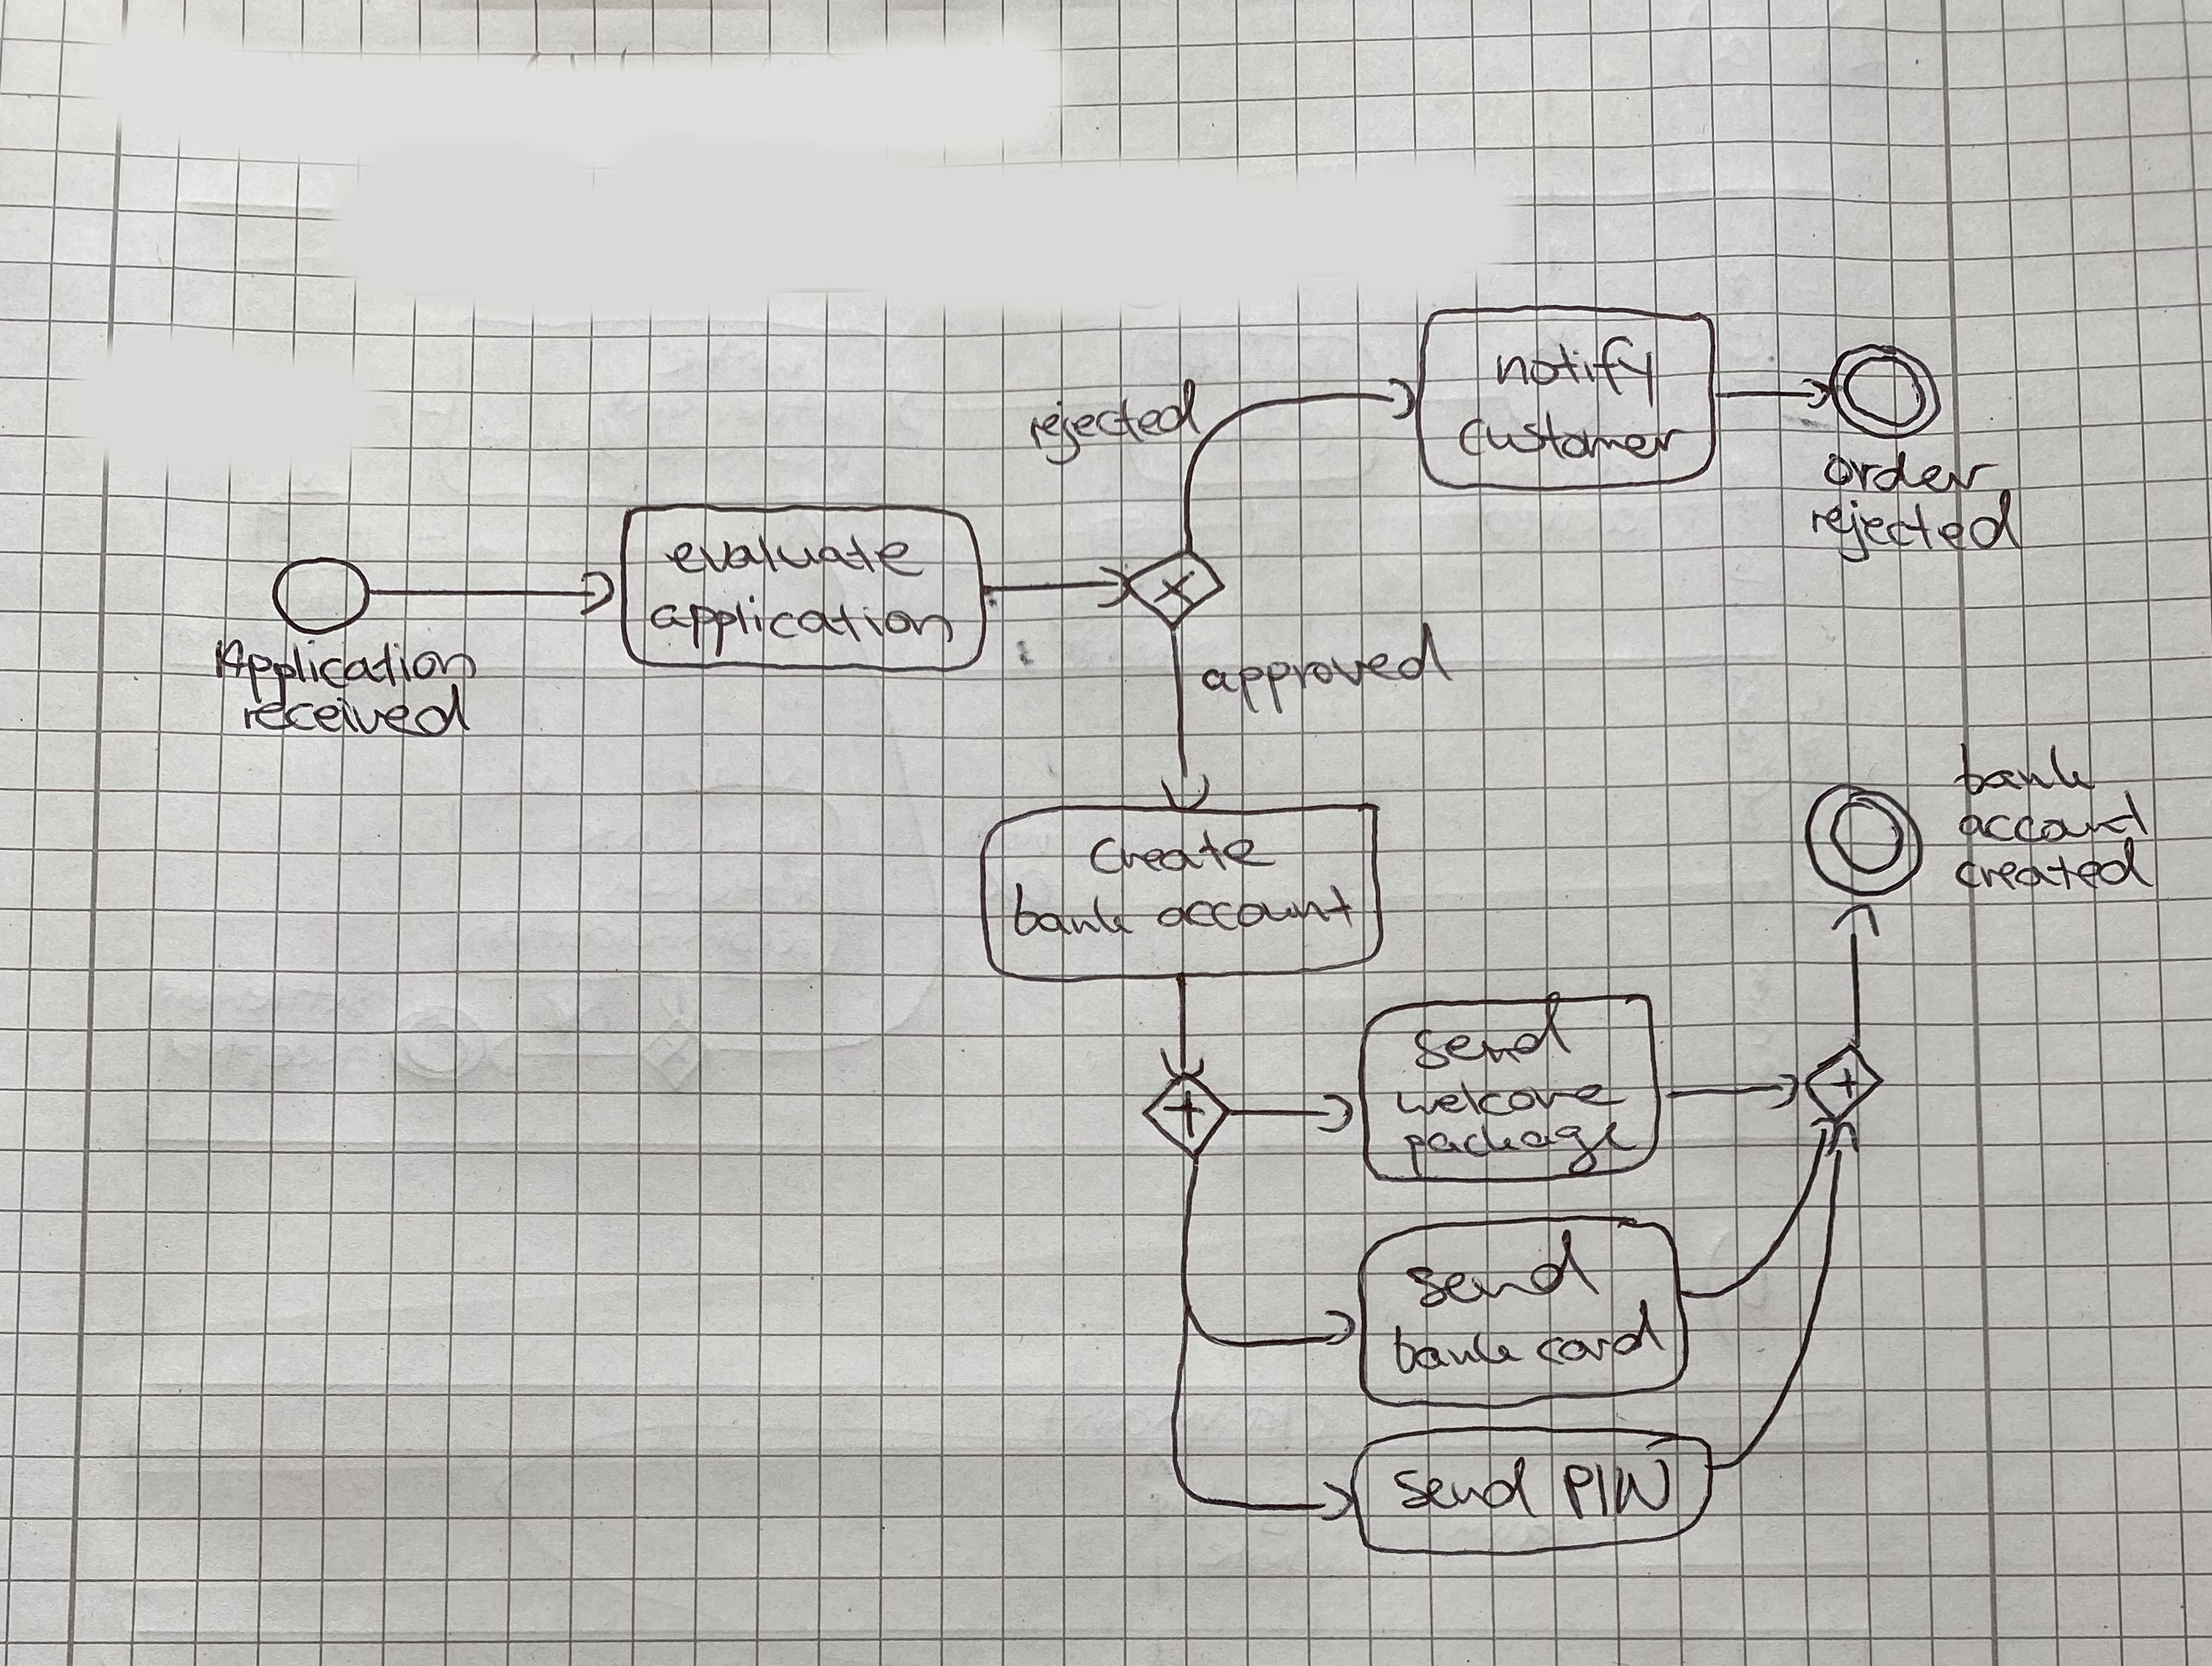Application: (194, 635, 483, 702)
Create: (1083, 821, 1297, 885)
PIN: (1564, 1452, 1673, 1519)
account: (1153, 877, 1375, 943), (1949, 791, 2158, 850)
application: (646, 581, 983, 651)
approved: (1195, 616, 1458, 721)
bank: (1949, 728, 2103, 801), (1006, 884, 1143, 947), (1389, 1318, 1529, 1379)
card: (1535, 1300, 1671, 1372)
created: (1949, 845, 2152, 896)
customer: (1458, 413, 1687, 469)
evaluate: (660, 521, 924, 579)
notify: (1477, 331, 1676, 411)
order: (1811, 444, 2002, 499)
package: (1405, 1118, 1647, 1169)
received: (240, 688, 469, 742)
rejected: (1022, 373, 1214, 474), (1797, 492, 2018, 570)
send: (1398, 1223, 1603, 1311), (1407, 985, 1582, 1071), (1393, 1456, 1556, 1517)
welcome: (1384, 1073, 1626, 1123)
